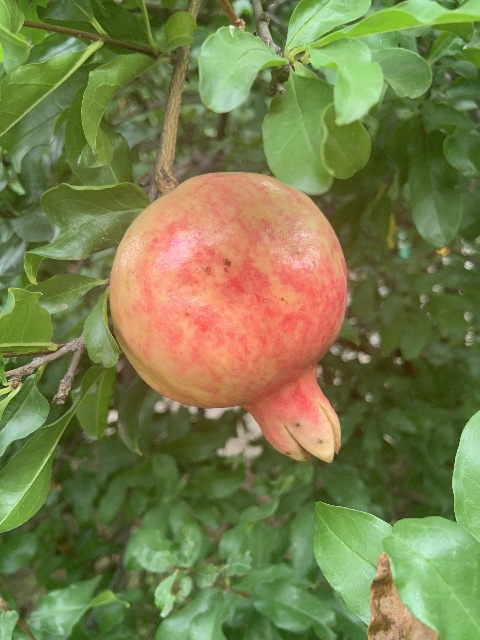ripe: (107, 173, 349, 465)
